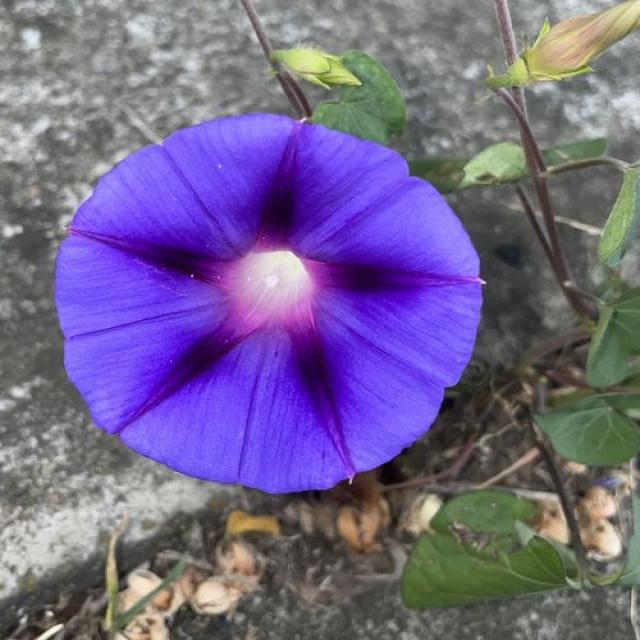ipomoea: (50, 110, 489, 497)
